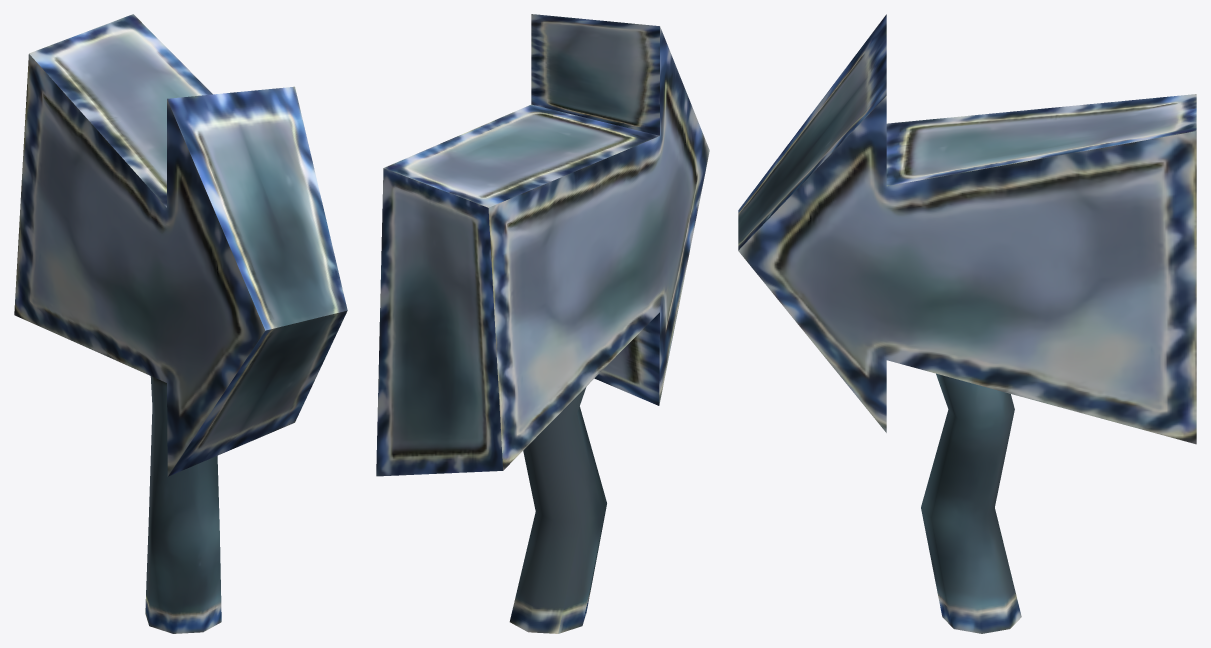
The model's file is signside.dae.
3 renders of one model, left to right at view 1: azimuth 30°, elevation 25°; view 2: azimuth 150°, elevation 25°; view 3: azimuth 270°, elevation 25°, orthographic.
Parts seen in each view (by area): view 1: signside; view 2: signside; view 3: signside.
Part boxes in pixels (bbox=[...]): signside: bbox=[14, 14, 347, 633]; signside: bbox=[376, 14, 709, 633]; signside: bbox=[738, 14, 1196, 633].
Size of the model in its own units: 0.3359 by 1.04 by 1.43.
